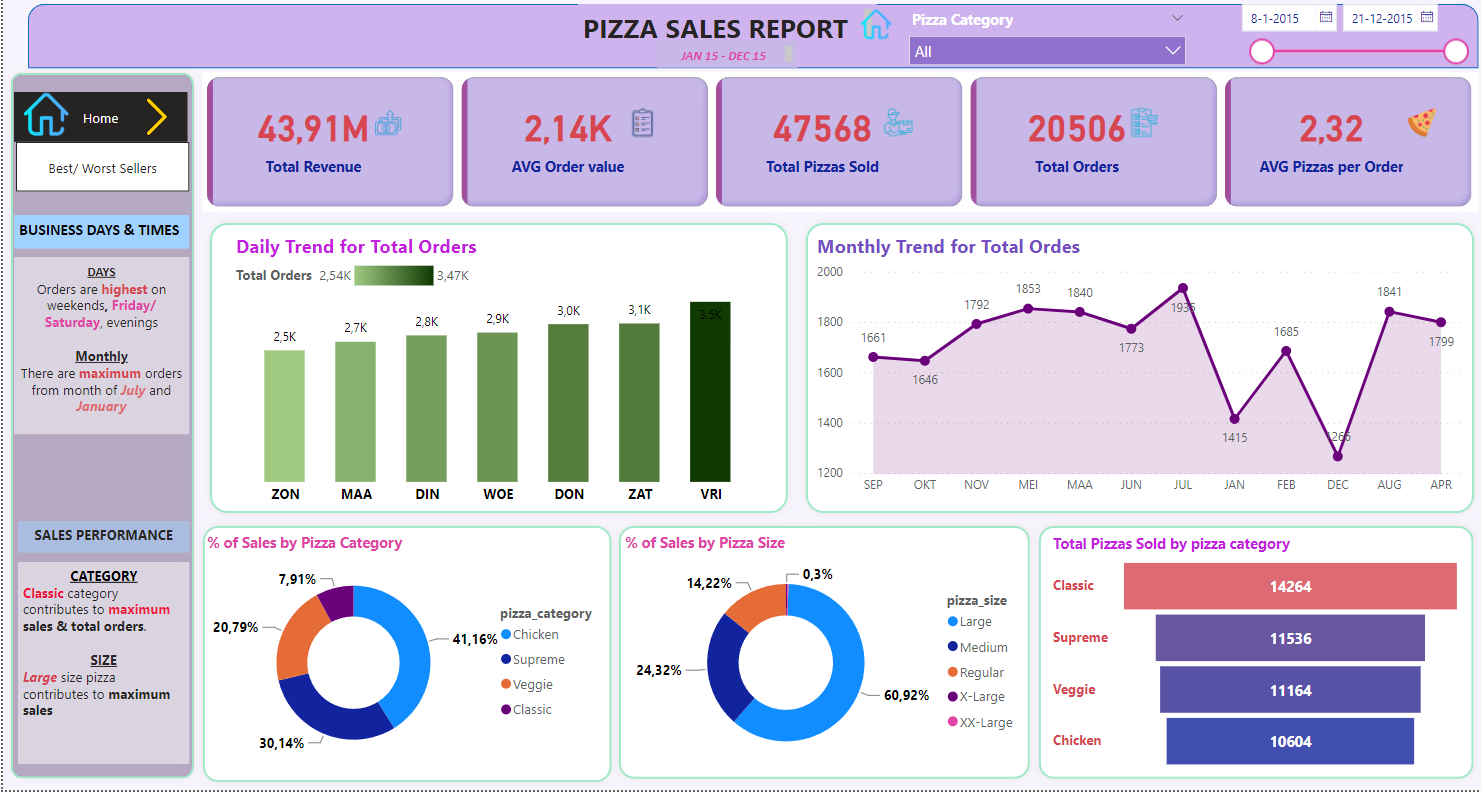

The dashboard page shown, as its layout file describes it:
{"tool":"powerbi","page":{"name":"Home","canvas":[1500,820],"ordinal":0},"visuals":[{"type":"shape","box":[0,87.8,200.6,728.3],"z":0},{"type":"shape","box":[25.1,26.2,1464.7,65],"z":1000},{"type":"cardVisual","fields":{"Data":["pizza_sales.Total Revenue","pizza_sales.AVG Order value","pizza_sales.Total Pizzas Sold","pizza_sales.Total Orders","pizza_sales.AVG Pizzas per Order"]},"box":[200.6,94.6,1289.1,141.3],"z":2000},{"type":"textbox","box":[580.2,26.2,302.1,43.3],"z":3000},{"type":"textbox","box":[660,63.8,142.5,27.4],"z":4000},{"type":"image","box":[853.7,26.2,57,41],"z":5000},{"type":"shape","box":[200.6,239.4,599.5,308.9],"z":6000},{"type":"columnChart","title":"Daily Trend for Total Orders","fields":{"Y":["pizza_sales.Total Orders"],"Category":["pizza_sales.Order day"]},"box":[230.2,257.6,540.3,282.7],"z":7000},{"type":"shape","box":[802.4,239.4,690.7,308.9],"z":8000},{"type":"areaChart","title":"Monthly Trend for Total Ordes","fields":{"Category":["pizza_sales.Order month"],"Y":["pizza_sales.Total Orders"]},"box":[817.2,257.6,661.1,272.4],"z":9000},{"type":"shape","box":[193.8,544.8,428.6,274.7],"z":10000},{"type":"shape","box":[614.4,544.8,430.9,271.3],"z":11000},{"type":"shape","box":[1038.4,544.8,454.8,271.3],"z":12000},{"type":"donutChart","title":"% of Sales by Pizza Category","fields":{"Category":["pizza_sales.pizza_category"],"Y":["pizza_sales.Total Revenue"]},"box":[200.6,559.7,414.9,243.9],"z":13000},{"type":"donutChart","title":"% of Sales by Pizza Size","fields":{"Y":["pizza_sales.Total Revenue"],"Category":["pizza_sales.pizza_size"]},"box":[623.5,559.7,414.9,243.9],"z":14000},{"type":"funnel","title":"Total Pizzas Sold by pizza category","fields":{"Category":["pizza_sales.pizza_category"],"Y":["pizza_sales.Total Pizzas Sold"]},"box":[1055.5,560.8,422.9,243.9],"z":15000},{"type":"textbox","box":[11.4,239.4,176.7,34.2],"z":16000},{"type":"textbox","box":[11.4,281.5,176.7,179],"z":17000},{"type":"textbox","box":[14.8,548.3,173.3,31.9],"z":18000},{"type":"textbox","box":[14.8,589.3,173.3,204],"z":19000},{"type":"slicer","fields":{"Values":["pizza_sales.pizza_category"]},"box":[905,26.2,299.8,65],"z":20000},{"type":"slicer","fields":{"Values":["pizza_sales.order_date"]},"box":[1237.9,16.1,255.2,83.9],"z":21000},{"type":"pageNavigator","box":[11.5,114.9,175.9,50.6],"z":22000},{"type":"pageNavigator","box":[12.6,165.5,175.9,50.6],"z":23000},{"type":"image","box":[14.9,110.3,57.5,55.2],"z":24000},{"type":"image","box":[131,116.1,48.3,48.3],"z":25000}]}

Visuals, with their boxes in screenshot pixels (x1, y1, x2, y2), scaled from the page's 1500x820 canvas onto the 1481x793 screenshot:
shape: rect(0, 85, 198, 789)
shape: rect(25, 25, 1471, 88)
cardVisual - pizza_sales.Total Revenue x pizza_sales.AVG Order value: rect(198, 91, 1471, 228)
textbox: rect(573, 25, 871, 67)
textbox: rect(652, 62, 792, 88)
image: rect(843, 25, 899, 65)
shape: rect(198, 232, 790, 530)
"Daily Trend for Total Orders" columnChart: rect(227, 249, 761, 523)
shape: rect(792, 232, 1474, 530)
"Monthly Trend for Total Ordes" areaChart: rect(807, 249, 1460, 513)
shape: rect(191, 527, 615, 792)
shape: rect(607, 527, 1032, 789)
shape: rect(1025, 527, 1474, 789)
"% of Sales by Pizza Category" donutChart: rect(198, 541, 608, 777)
"% of Sales by Pizza Size" donutChart: rect(616, 541, 1025, 777)
"Total Pizzas Sold by pizza category" funnel: rect(1042, 542, 1460, 778)
textbox: rect(11, 232, 186, 265)
textbox: rect(11, 272, 186, 445)
textbox: rect(15, 530, 186, 561)
textbox: rect(15, 570, 186, 767)
slicer - pizza_sales.pizza_category: rect(894, 25, 1190, 88)
slicer - pizza_sales.order_date: rect(1222, 16, 1474, 97)
pageNavigator: rect(11, 111, 185, 160)
pageNavigator: rect(12, 160, 186, 209)
image: rect(15, 107, 71, 160)
image: rect(129, 112, 177, 159)
